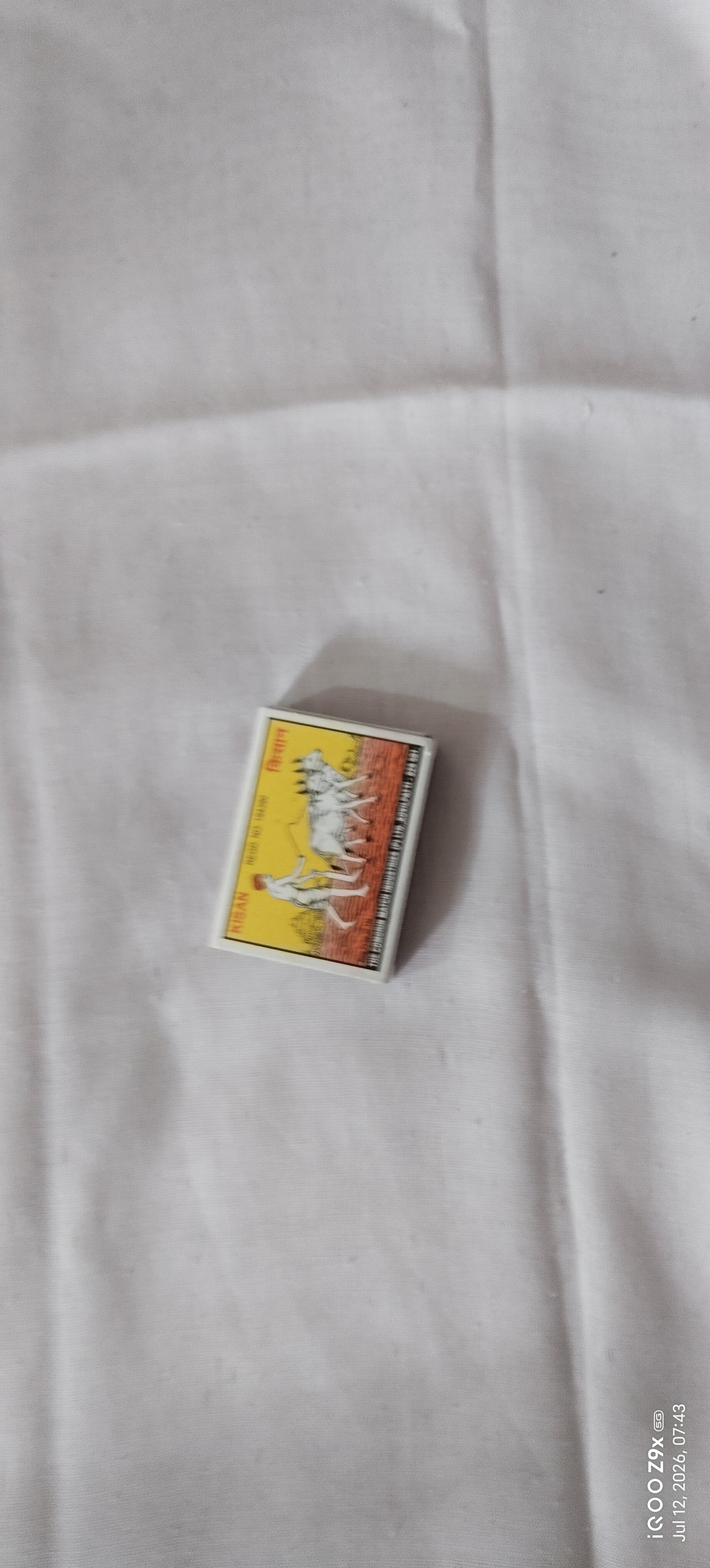matchbox: (171, 678, 461, 1006)
